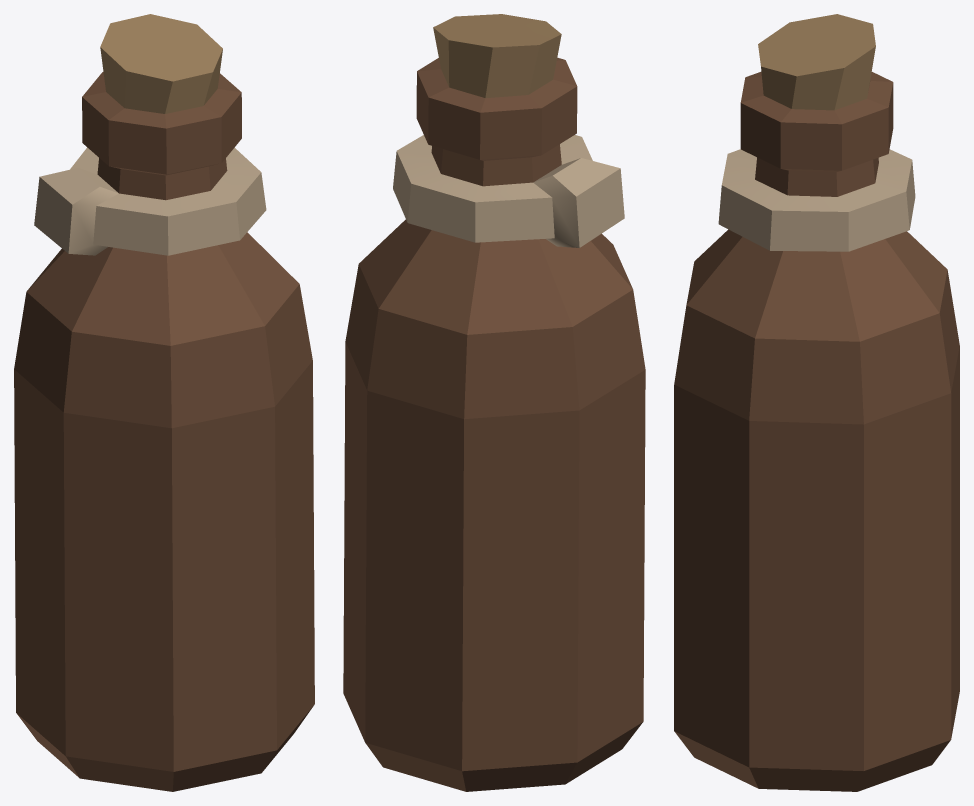
The model's file is SM_Item_Bottle_Attachment_01.glb.
3 views of the same model, side by side, from view 1: azimuth 30°, elevation 25°; view 2: azimuth 150°, elevation 25°; view 3: azimuth 270°, elevation 25° (orthographic). The views are drawn at different scales.
Parts seen in each view (by area): view 1: SM_Item_Bottle_Attachment_01; view 2: SM_Item_Bottle_Attachment_01; view 3: SM_Item_Bottle_Attachment_01.
Part boxes in pixels (x1,y1,x2,y2): SM_Item_Bottle_Attachment_01: [14, 14, 314, 791]; SM_Item_Bottle_Attachment_01: [343, 14, 645, 791]; SM_Item_Bottle_Attachment_01: [674, 14, 959, 791].
Bounding box in the file's own units: 0.00123 × 0.00332 × 0.00122.
1 material, 1 textured.
